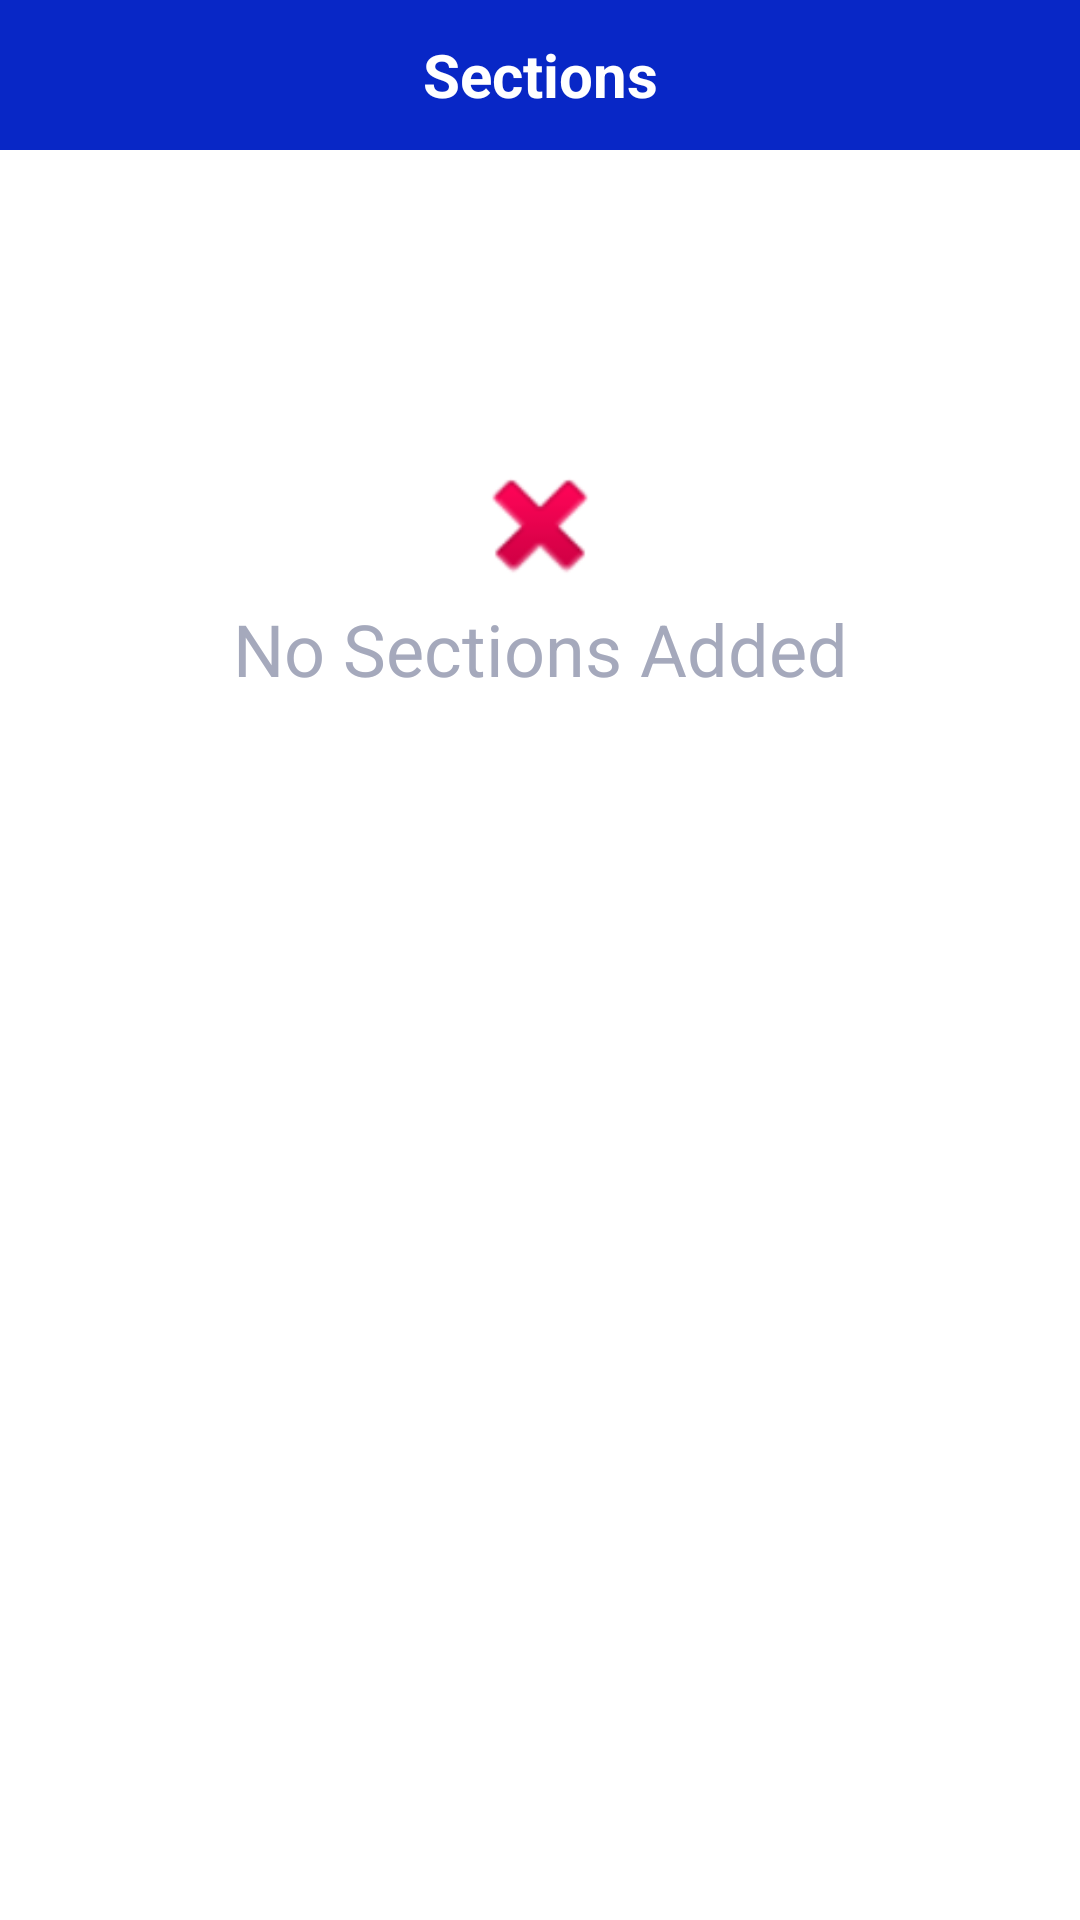

Point at icon controls on the screen. Image size 1080px x 1920px, points as (x=x, y=y).
delete: (x=540, y=526)
